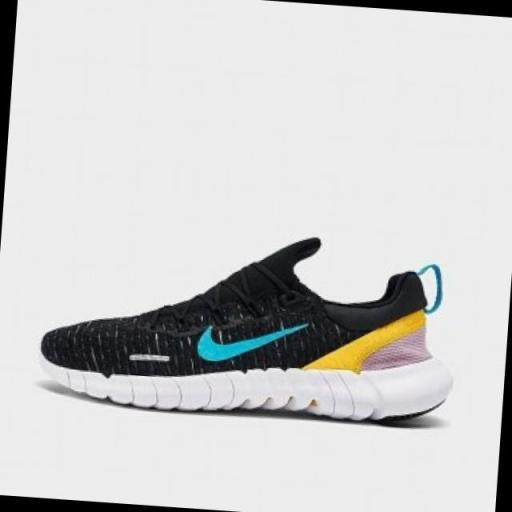Nike: (188, 312, 314, 374)
